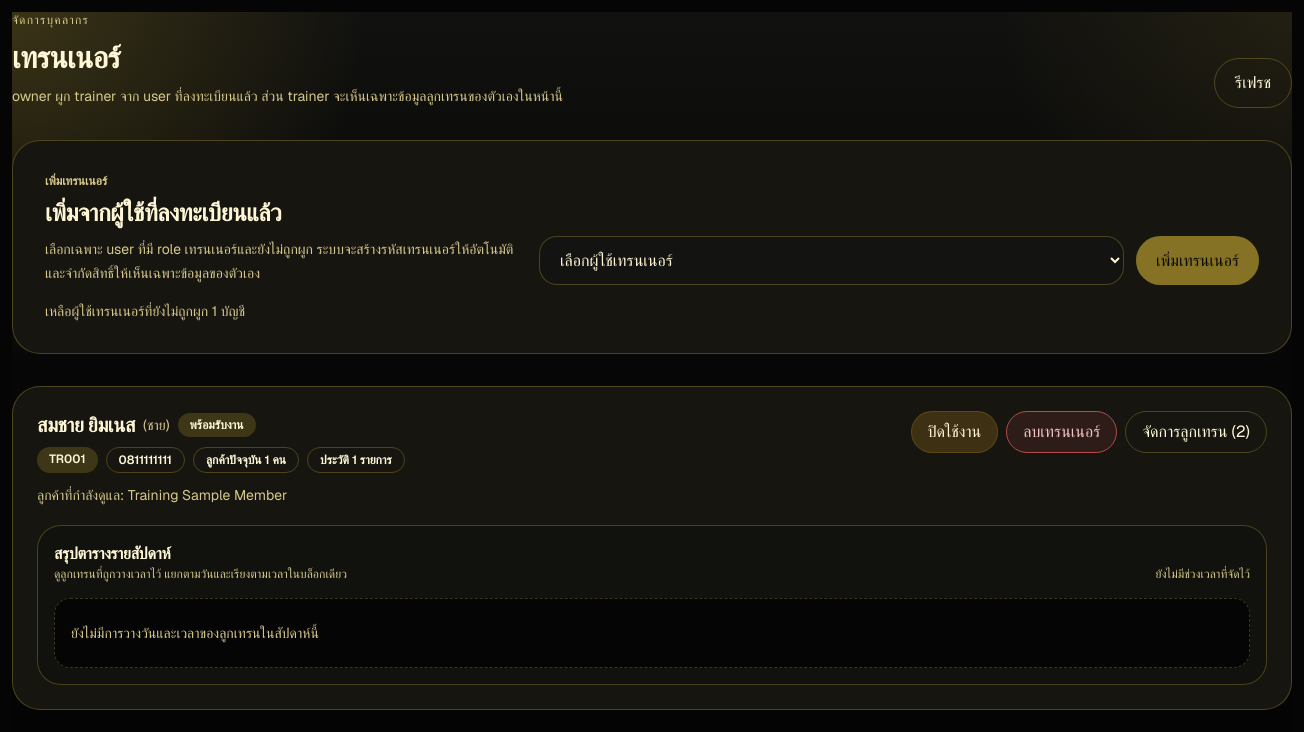
Test case: Trainers page › lets owner delete trainer
Expected: the heading "สมชาย ยิมเนส" is shown, [37,411,135,439]
What coordinates should you click on to do the following:
click the button "ลบเทรนเนอร์"
I would click on:
 (1062, 432)
Its box is [1006,411,1117,453].
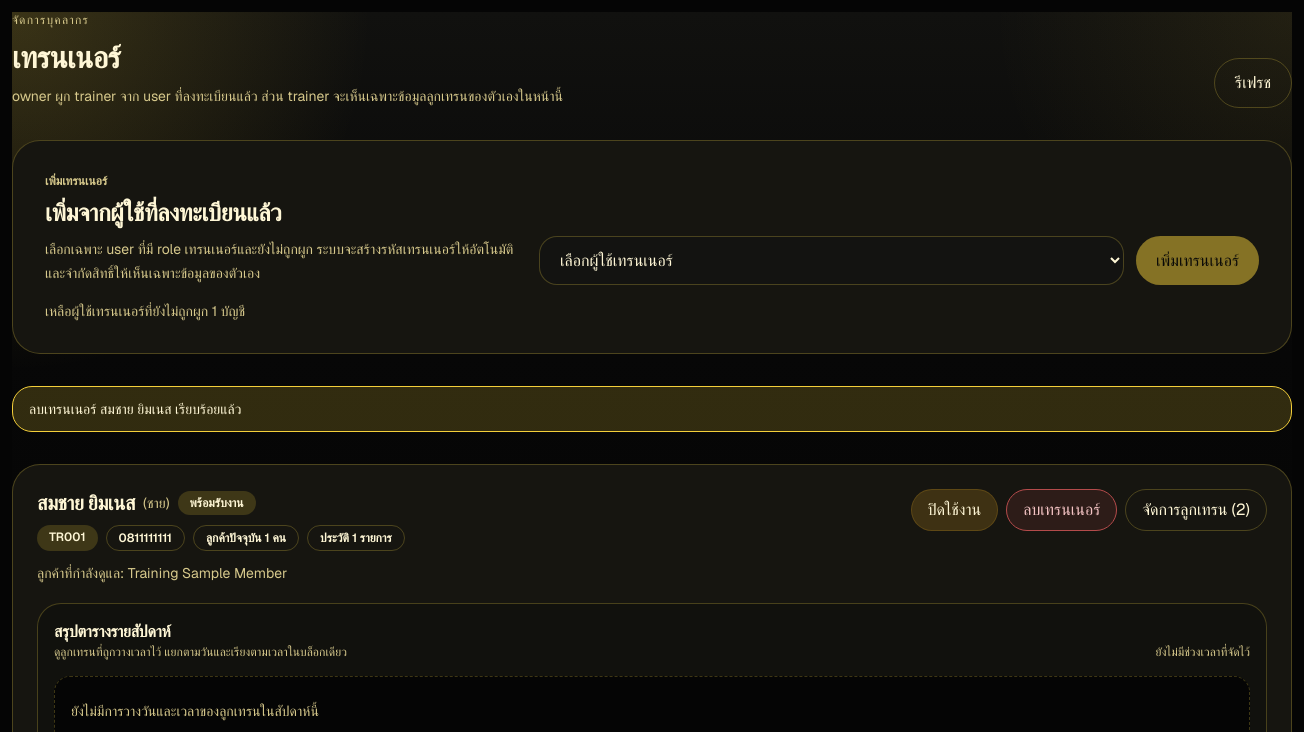
Expected: the text "ลบเทรนเนอร์ สมชาย ยิมเนส เรียบร้อยแล้ว" is shown, [12,386,1292,432]
